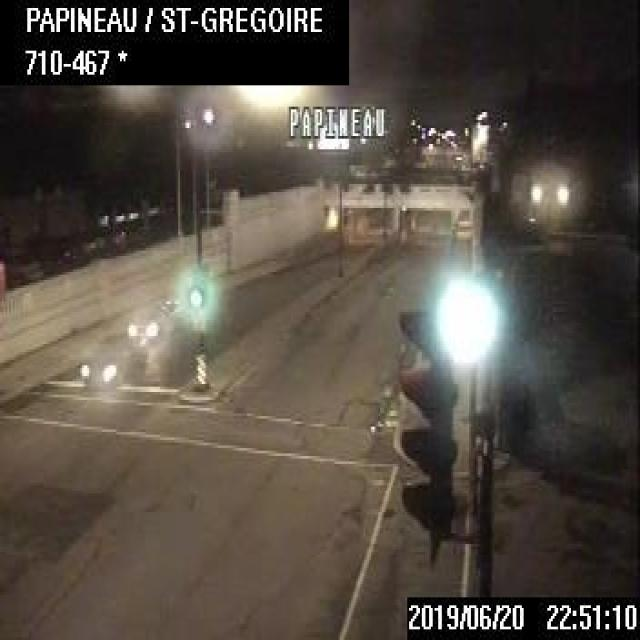vehicle: (76, 338, 132, 386), (125, 296, 170, 341)
